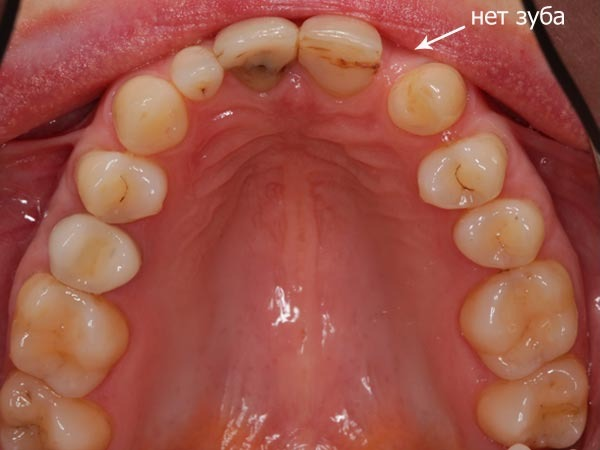UL1BC_healthy: (456, 201, 542, 267)
UL1M_decay: (482, 372, 583, 444)
UL2BC_healthy: (462, 264, 575, 377)
ULCI_decay: (300, 15, 380, 92)
ULC_decay: (419, 137, 502, 206)
ULLI_healthy: (388, 64, 462, 133)
UR1BC_decay: (79, 152, 165, 221)
UR1M_healthy: (13, 280, 117, 396)
UR2BC_healthy: (50, 216, 139, 292)
UR2M_decay: (3, 381, 85, 450)
URCI_decay: (213, 17, 299, 88)
URC_healthy: (115, 79, 187, 153)
URLI_decay: (173, 46, 222, 100)
